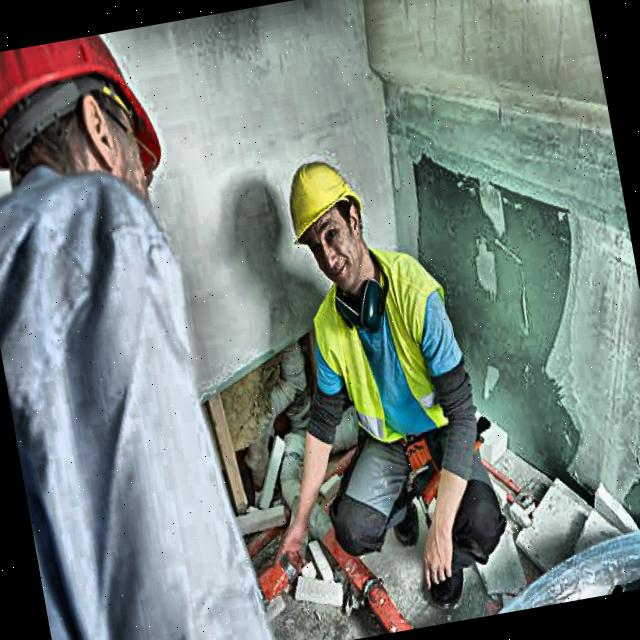helmet: (0, 23, 197, 257), (266, 132, 383, 305)
